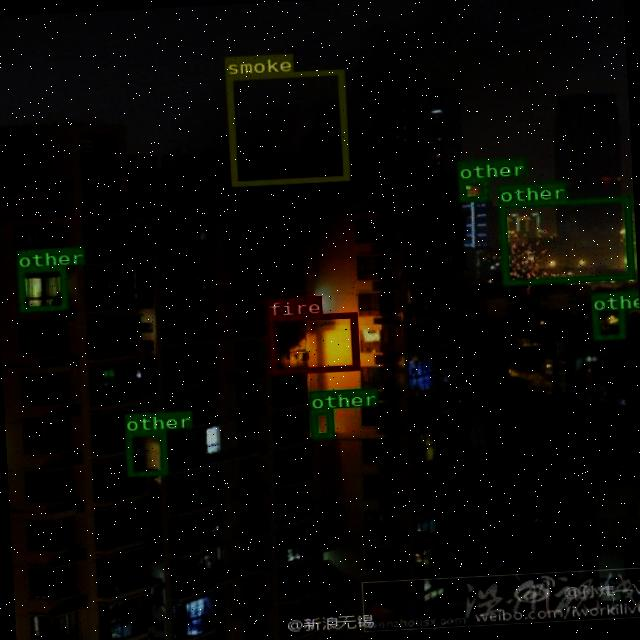fire: (267, 312, 358, 374)
smoke: (224, 68, 348, 185)
